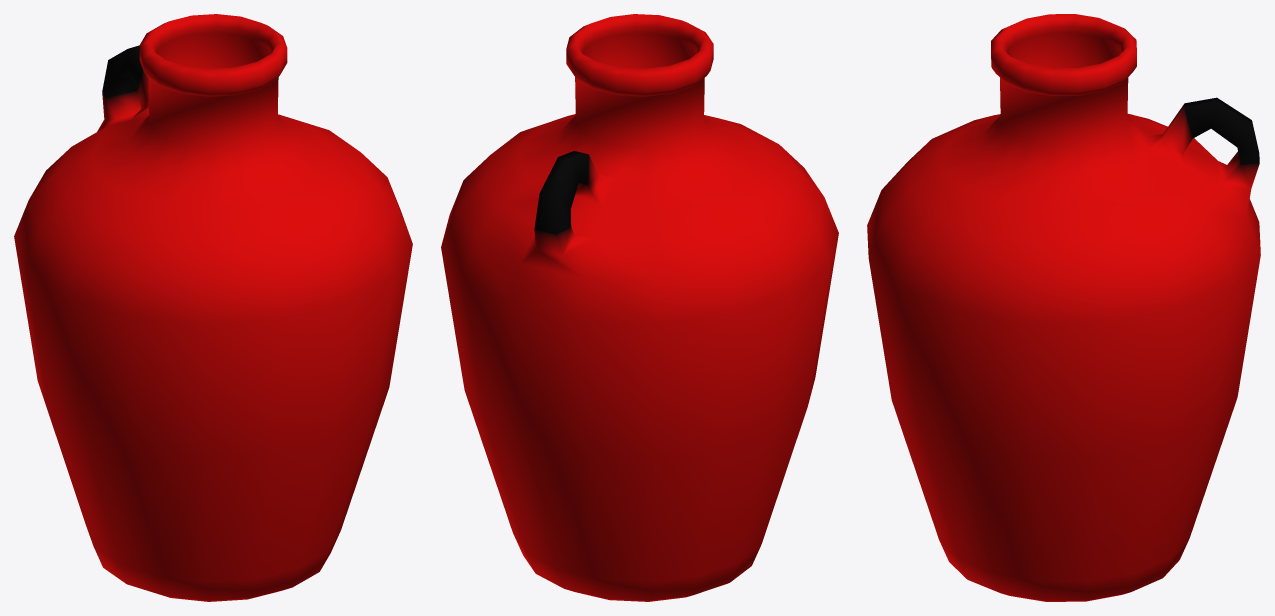
File: Pot_A.fbx
The picture shows the model from 3 angles, left to right: view 1: azimuth 30°, elevation 25°; view 2: azimuth 150°, elevation 25°; view 3: azimuth 270°, elevation 25°; orthographic projection.
Parts seen in each view (by area): view 1: U_Pot_A; view 2: U_Pot_A; view 3: U_Pot_A.
Part boxes in pixels (left/top/right/bottom): U_Pot_A: left=14, top=14, right=412, bottom=601; U_Pot_A: left=441, top=14, right=838, bottom=601; U_Pot_A: left=867, top=14, right=1260, bottom=601.
Size of the model in its own units: 48.25 by 70.17 by 48.25.
